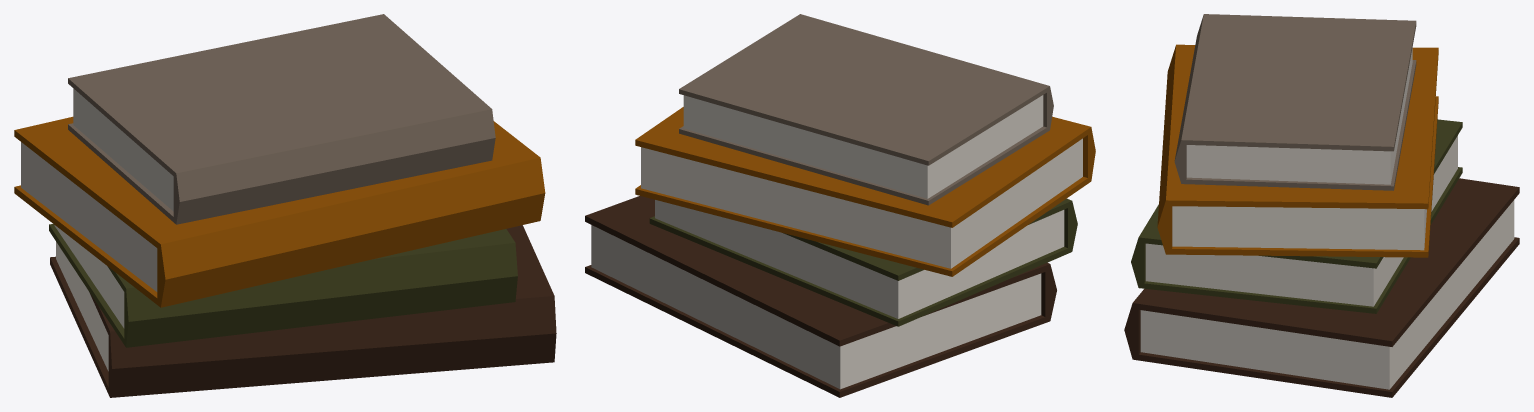
Rendered from ksiazkia.fbx.
The picture shows the model from 3 angles, left to right: view 1: azimuth 30°, elevation 25°; view 2: azimuth 150°, elevation 25°; view 3: azimuth 270°, elevation 25°; orthographic projection. The views are drawn at different scales.
Visible parts, largest first — view 1: ksiazka3.002; view 2: ksiazka3.002; view 3: ksiazka3.002.
Boxes of the visible parts, box(x1,y1,x2,y2) form: ksiazka3.002: box(14, 14, 556, 397); ksiazka3.002: box(585, 14, 1095, 397); ksiazka3.002: box(1124, 14, 1519, 397).
Bounding box in the file's own units: 204 × 239 × 117.
